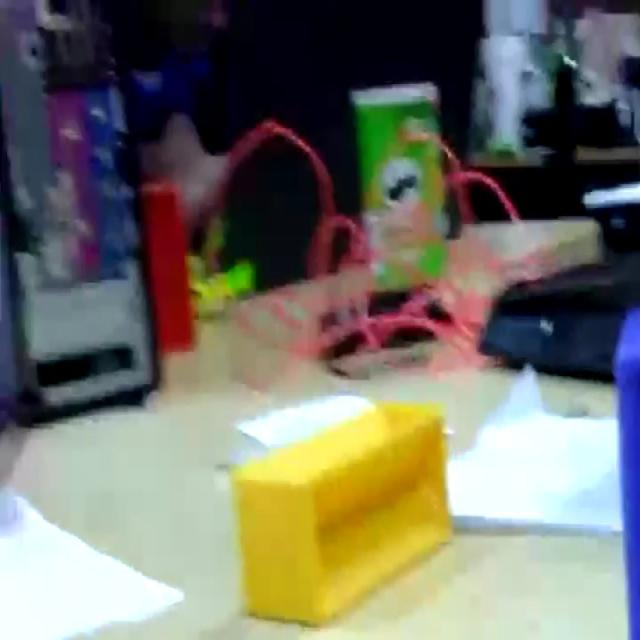red_block: (137, 177, 196, 356)
yellow_block: (229, 396, 454, 625)
